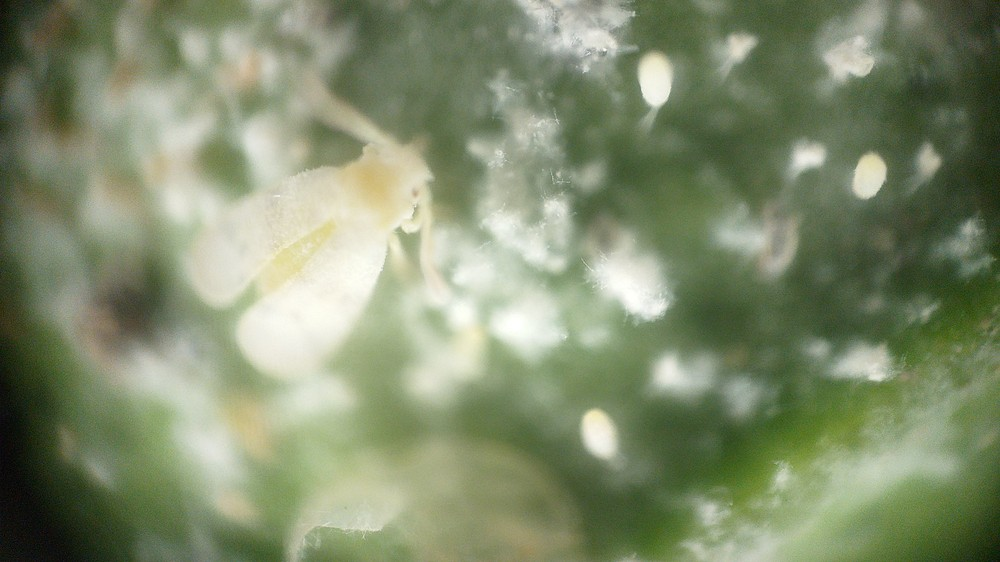Mosca Blanca: (183, 76, 491, 394)
